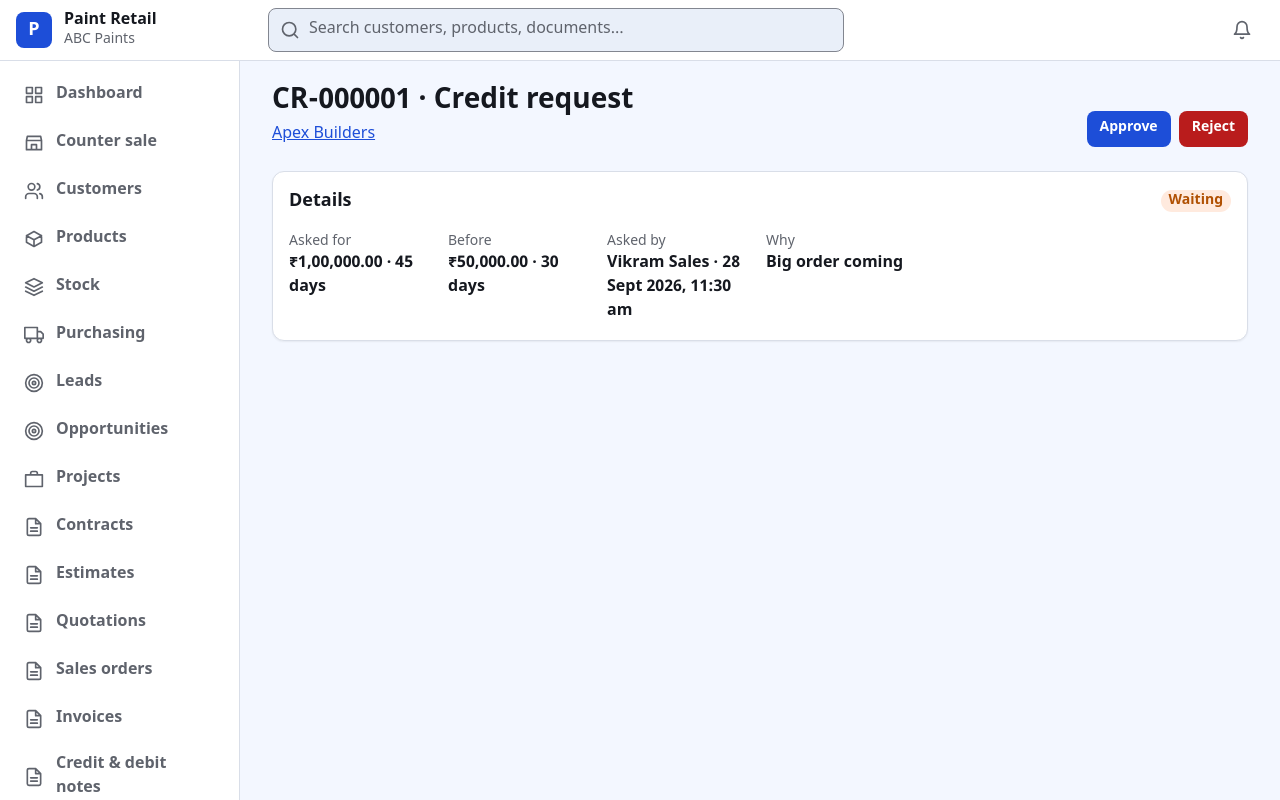
Test: CreditRequestPage › shows a waiting request with its decision buttons
Expected: the heading "CR-000001 · Credit request" is shown, [272,85,633,119]
Expected: the text "Big order coming" is shown, [766,252,913,276]
Click the button with aria-label "Reject CR-000001". click: (1213, 129)
box: [1179,111,1248,147]
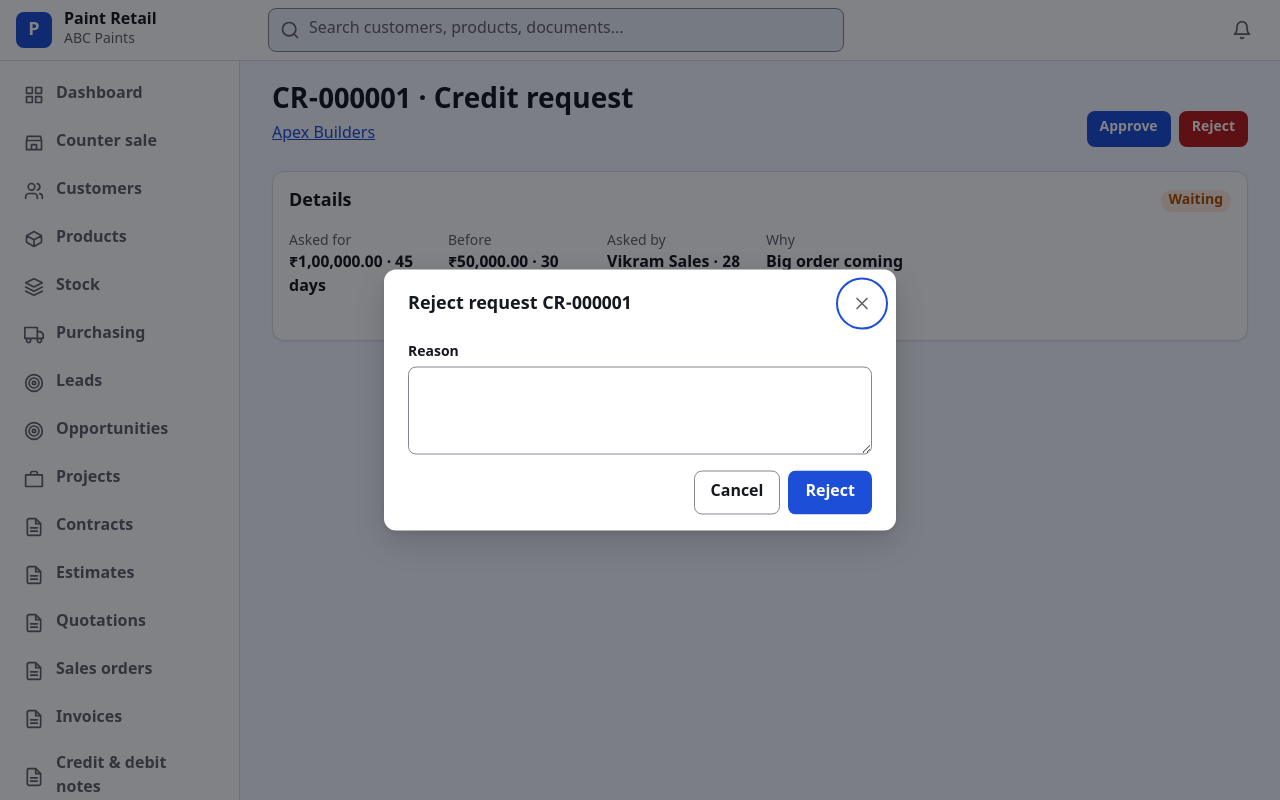
Type "Too risky" into the text box. click: (640, 410)
box: [408,366,872,454]
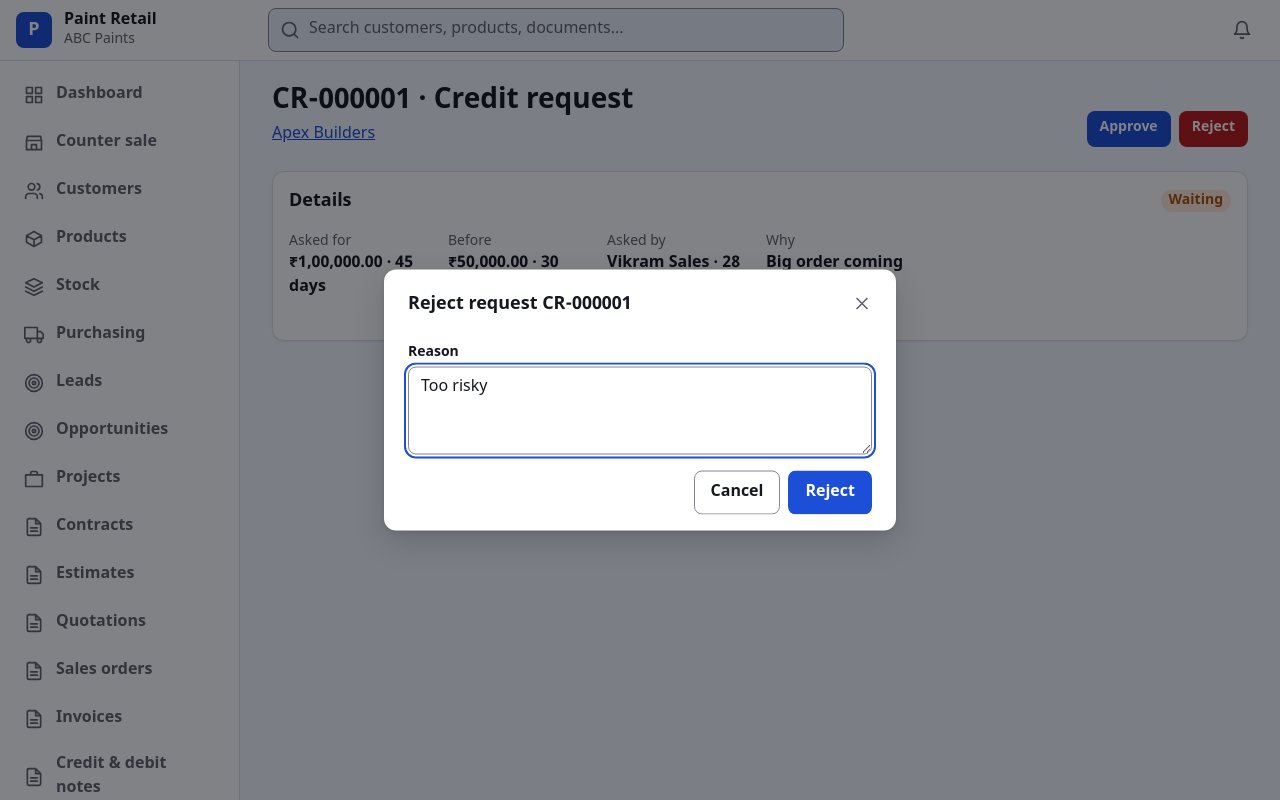
Click the button "Reject". click: (830, 492)
box: [788,470,872,514]
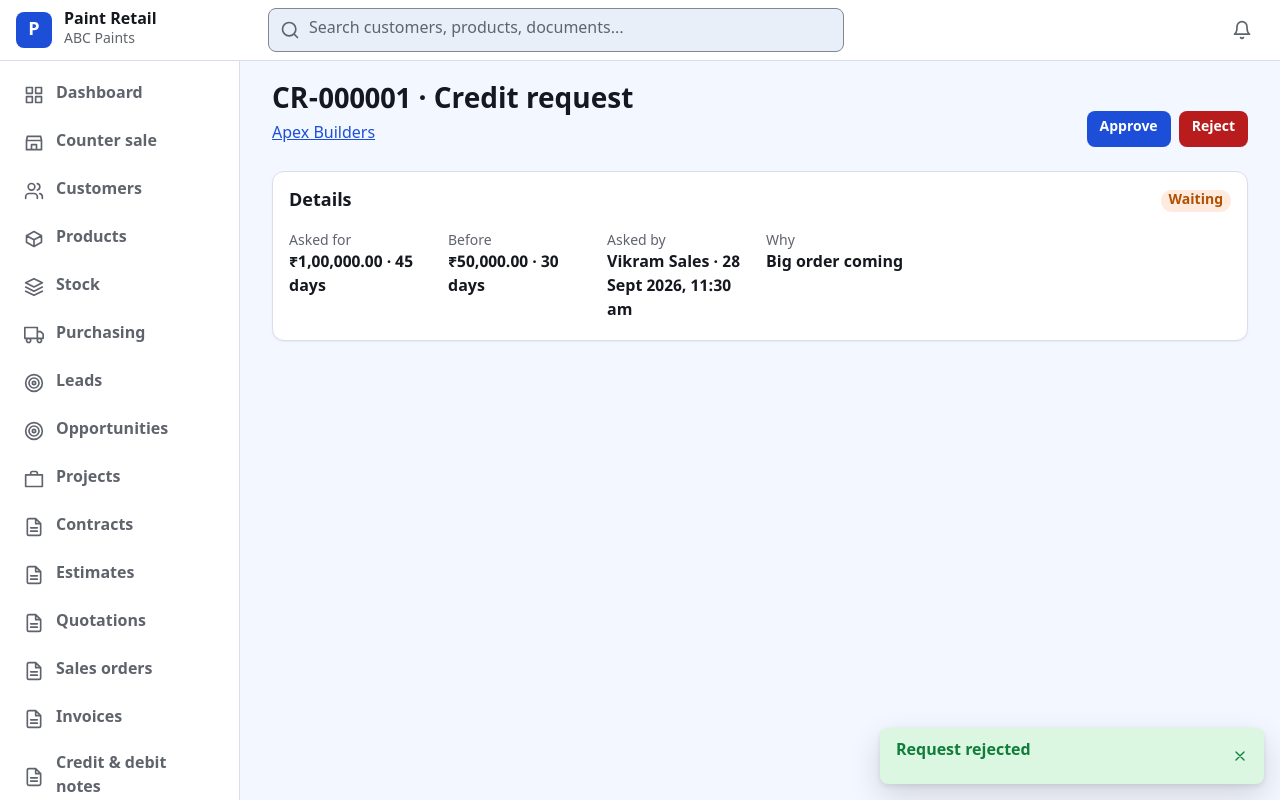
Expected: the text "Request rejected" is shown, [896,741,1031,762]
